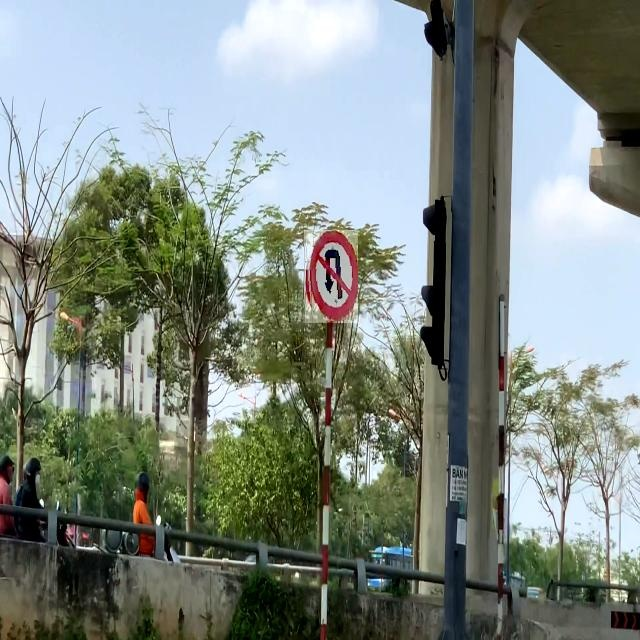bien_cam: (304, 230, 358, 323)
